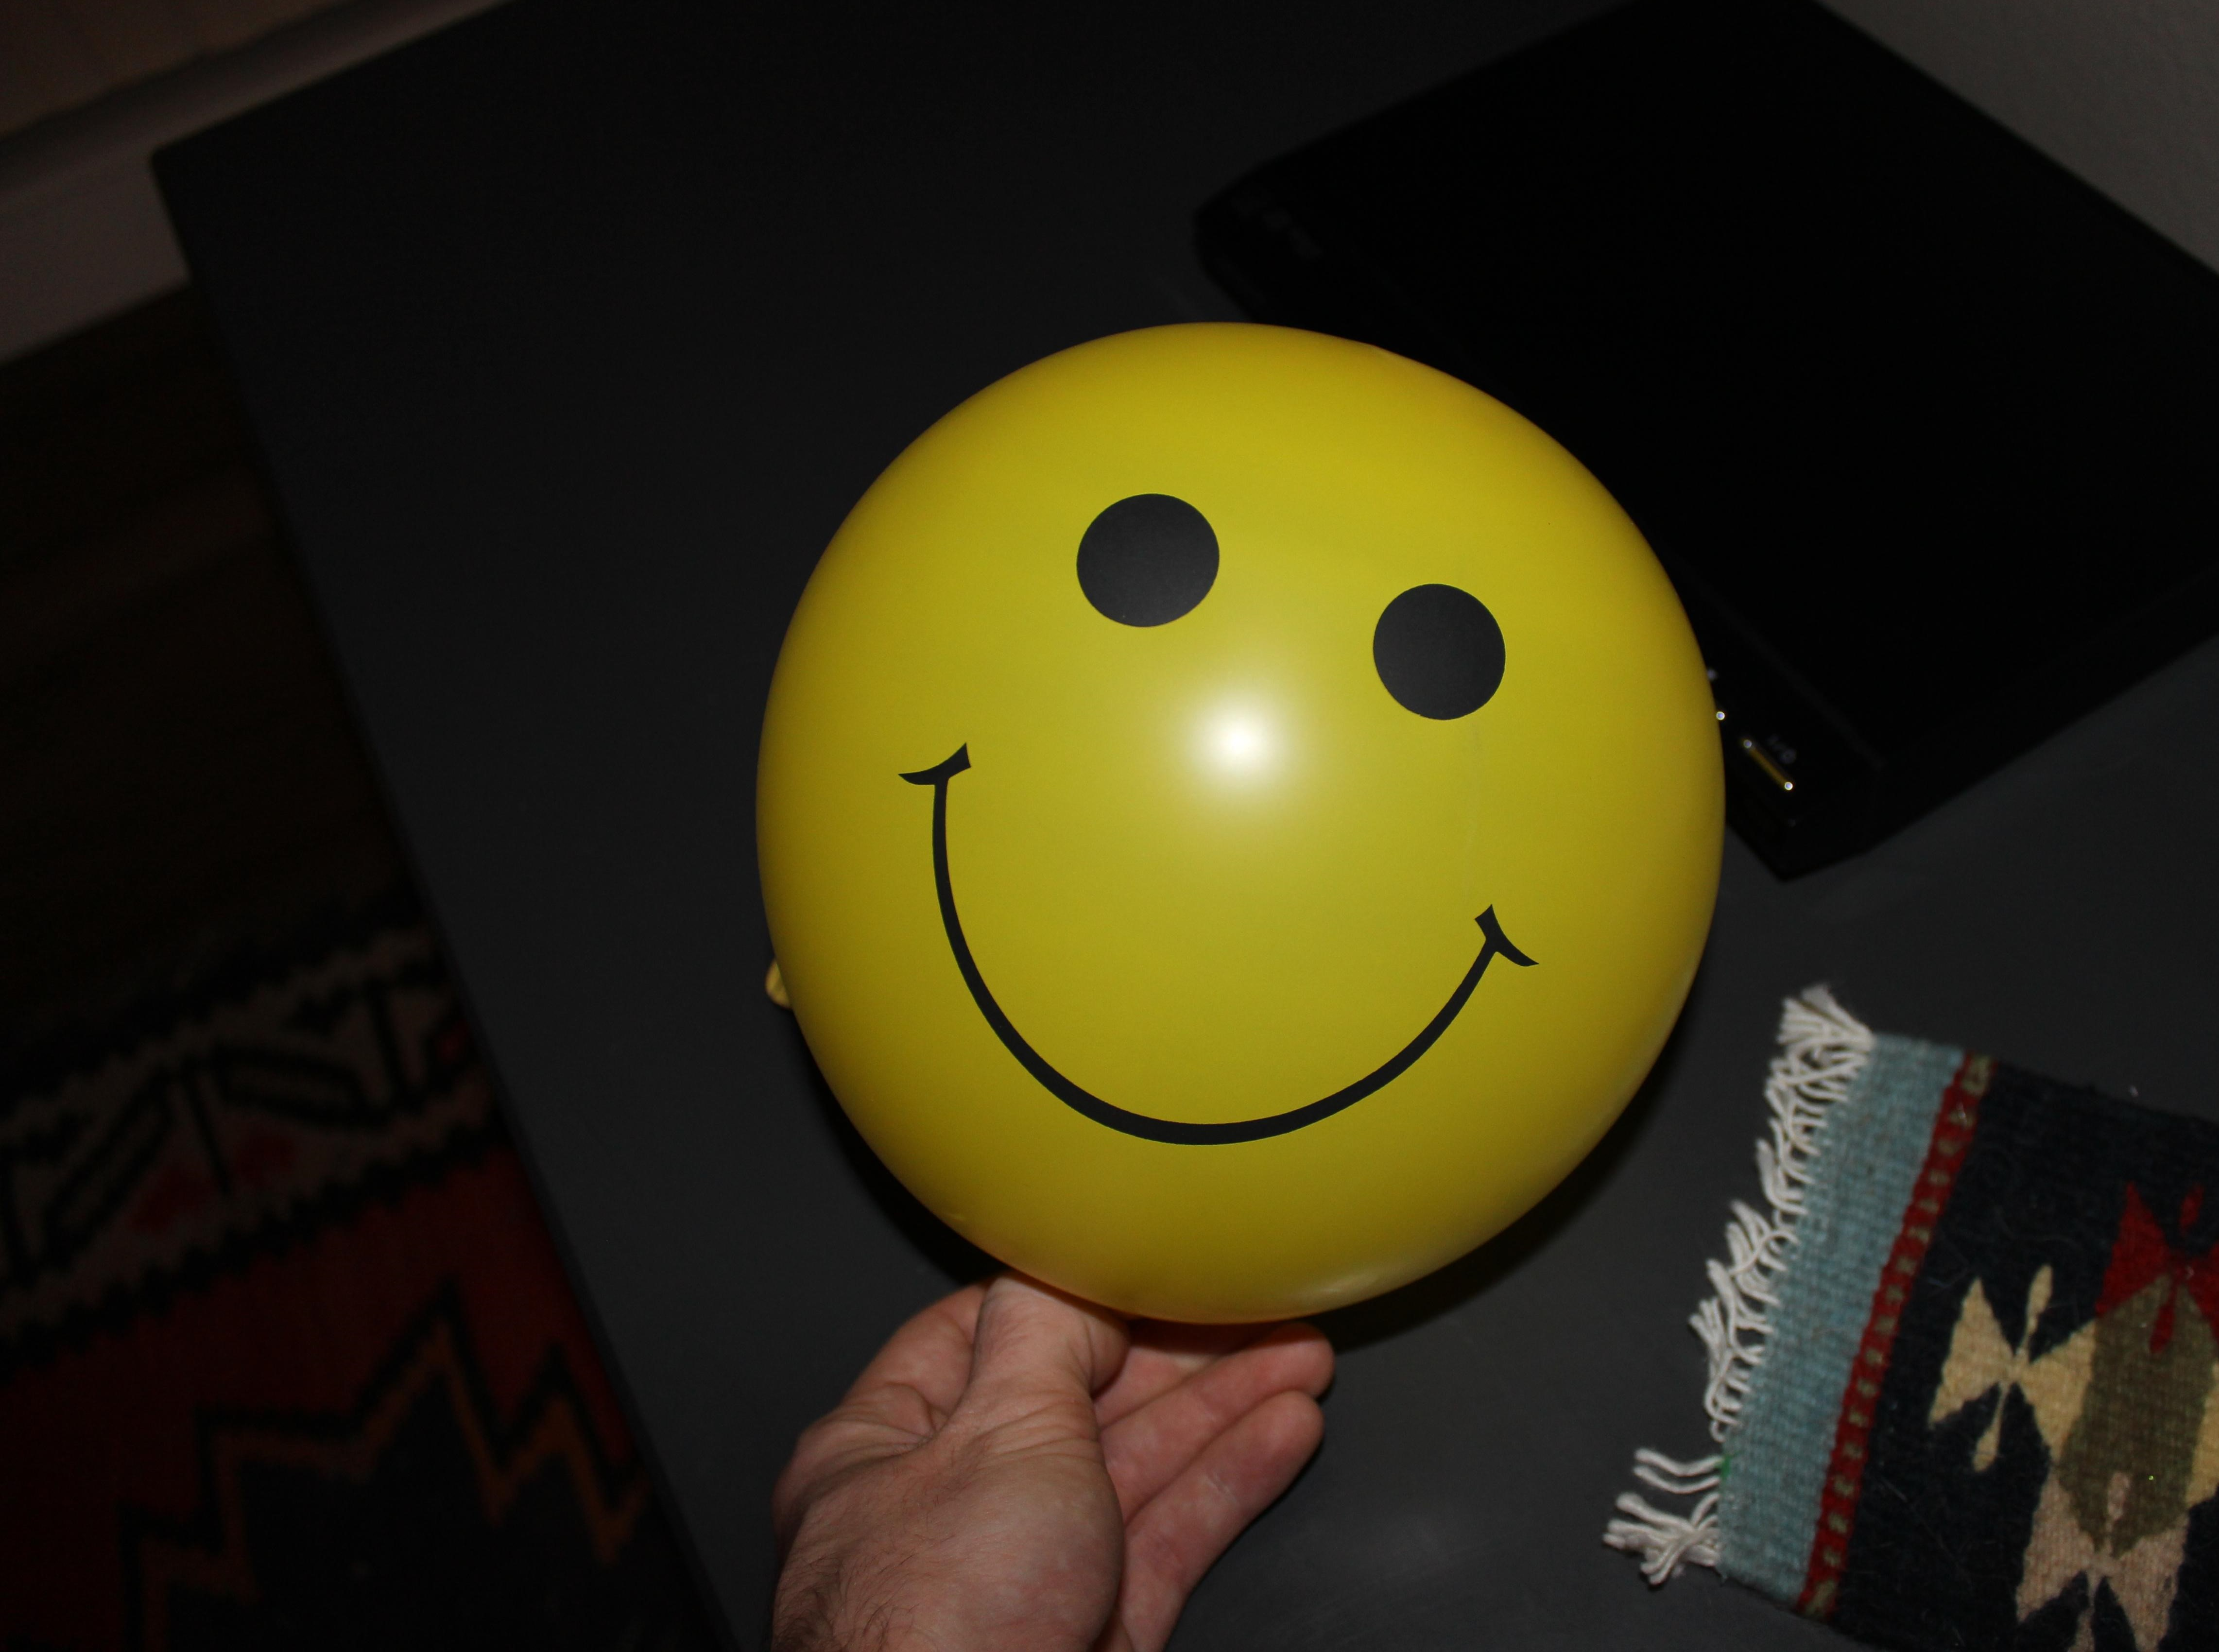yellowBalloon: (703, 281, 1761, 1374)
